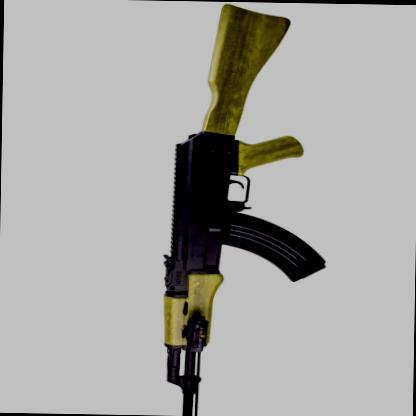rifle: (121, 2, 349, 416)
